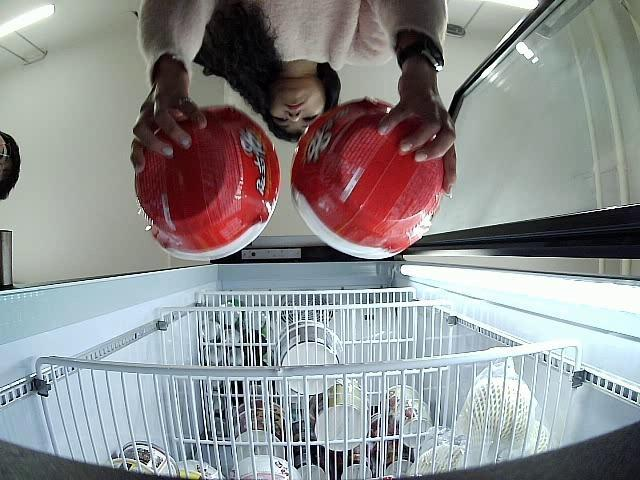10_wangTtukkeong: (292, 99, 446, 260), (135, 108, 279, 262)
